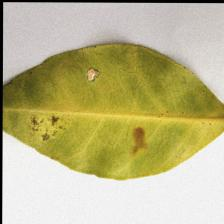black spot: (25, 64, 152, 168)
